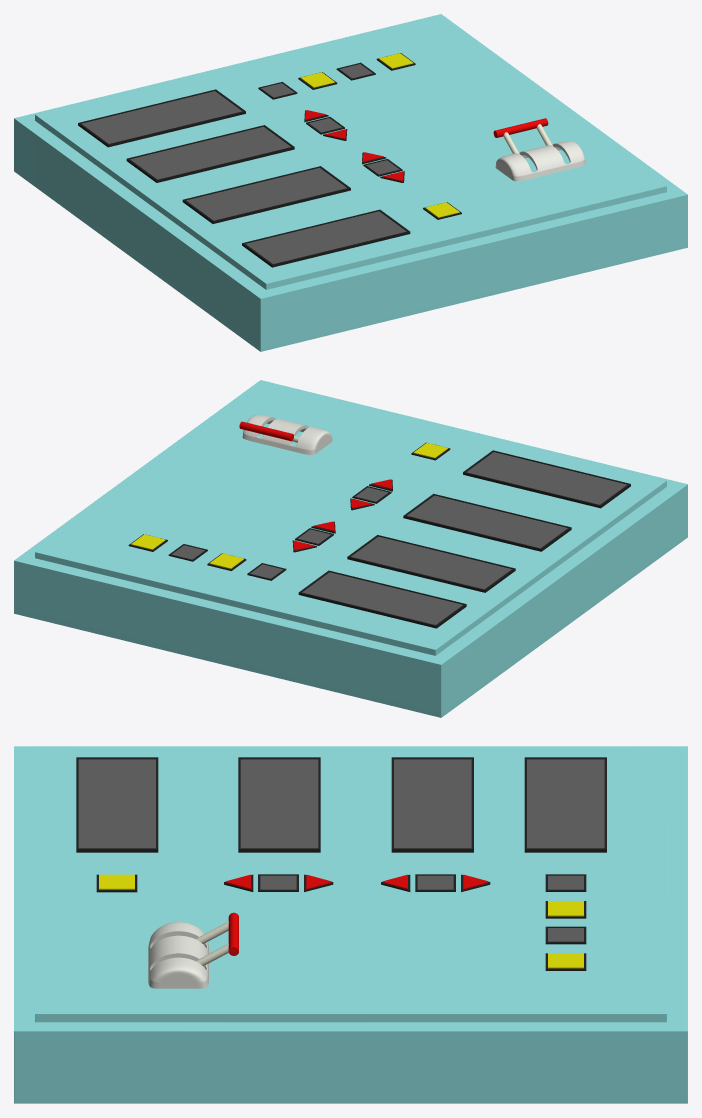
The model's file is control_box.fbx.
3 views of the same model, one above another, from view 1: azimuth 30°, elevation 25°; view 2: azimuth 150°, elevation 25°; view 3: azimuth 270°, elevation 25° (orthographic). The views are drawn at different scales.
Visible parts, largest first — view 1: metal_case, display_002, display_004, display_003, display_001, lever_case, lever; view 2: metal_case, display_003, display_002, display_001, display_004, lever_case; view 3: metal_case, display_004, display_003, display_002, display_001, lever_case, lever, led_003, display_small_005, led_002, led_001, display_small_004 (+2 smaller).
Boxes of the visible parts, left/top/right/bottom form: metal_case: left=14, top=14, right=687, bottom=351; display_002: left=126, top=125, right=294, bottom=182; display_004: left=242, top=209, right=410, bottom=267; display_003: left=182, top=166, right=350, bottom=223; display_001: left=78, top=89, right=245, bottom=147; lever_case: left=495, top=141, right=585, bottom=181; lever: left=493, top=118, right=553, bottom=154; metal_case: left=14, top=380, right=687, bottom=717; display_003: left=403, top=493, right=571, bottom=551; display_002: left=347, top=535, right=515, bottom=592; display_001: left=298, top=570, right=466, bottom=628; display_004: left=463, top=450, right=630, bottom=508; lever_case: left=242, top=414, right=332, bottom=454; metal_case: left=14, top=746, right=687, bottom=1103; display_004: left=76, top=757, right=158, bottom=852; display_003: left=238, top=757, right=320, bottom=852; display_002: left=391, top=757, right=473, bottom=852; display_001: left=524, top=757, right=606, bottom=852; lever_case: left=148, top=922, right=208, bottom=988; lever: left=195, top=912, right=238, bottom=966; led_003: left=96, top=874, right=137, bottom=892; display_small_005: left=545, top=926, right=586, bottom=944; led_002: left=545, top=953, right=586, bottom=970; led_001: left=545, top=901, right=586, bottom=918; display_small_004: left=545, top=874, right=586, bottom=891.
Bounding box in the file's own units: 28.92 × 5.51 × 28.92.
